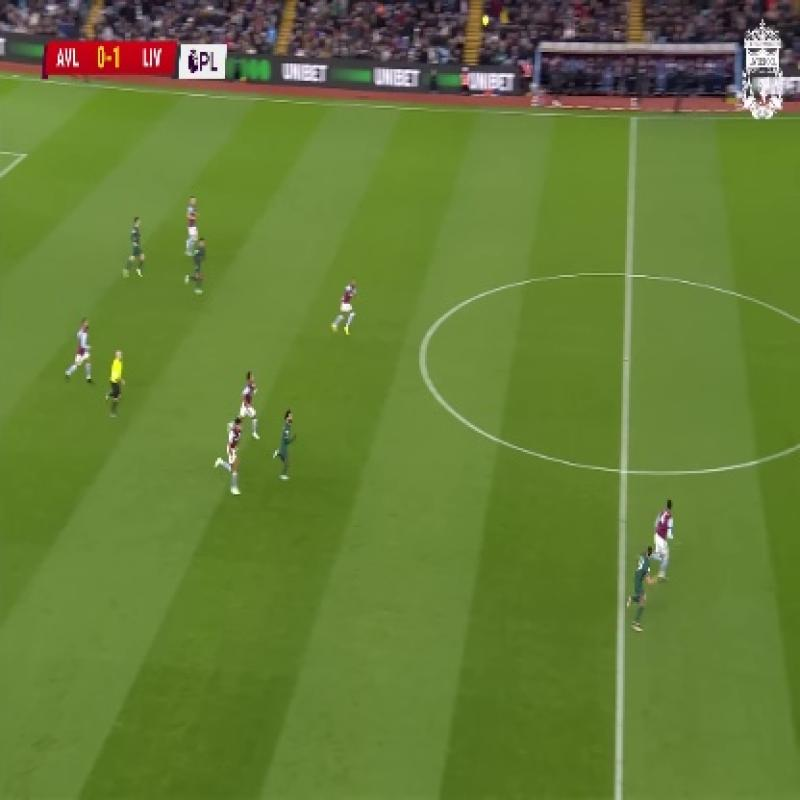13: (617, 94, 650, 138), (621, 102, 646, 133)
14: (610, 250, 646, 296)
15: (606, 444, 640, 494)
9: (12, 140, 32, 170)
c: (408, 338, 442, 388)
